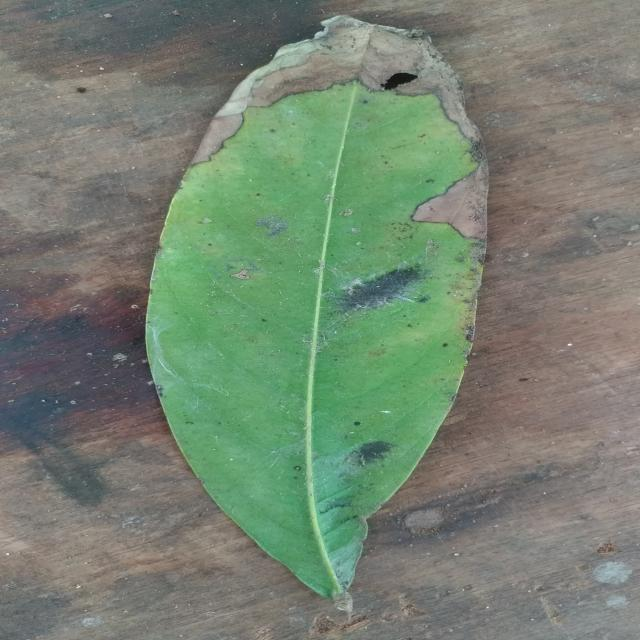defectedseethaashoka: (147, 16, 487, 598)
